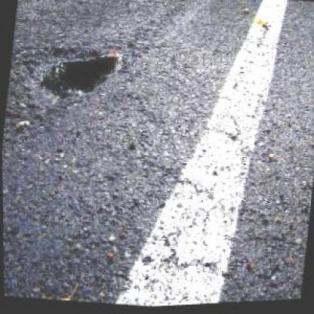Hueco: (22, 35, 127, 125)
